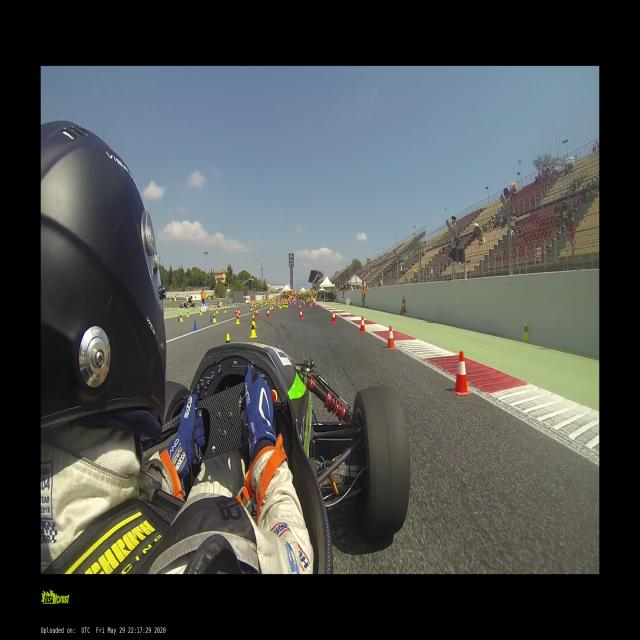blue_cone: (193, 320, 197, 330), (209, 314, 213, 323), (178, 314, 180, 322)
orange_cone: (452, 351, 472, 395), (385, 326, 396, 350), (359, 316, 366, 332), (331, 311, 336, 323), (298, 309, 304, 319), (266, 309, 270, 317), (255, 308, 259, 316), (250, 307, 253, 313), (309, 303, 312, 308), (271, 306, 274, 311), (238, 309, 240, 316), (235, 309, 237, 315), (299, 304, 301, 309), (315, 303, 317, 307)
yellow_cone: (249, 321, 257, 338), (521, 324, 529, 341), (250, 315, 257, 327), (235, 313, 240, 324), (212, 313, 217, 322), (179, 312, 183, 321), (226, 334, 230, 343), (187, 310, 190, 317), (269, 304, 272, 310), (215, 308, 218, 313), (279, 304, 282, 309), (224, 307, 226, 313), (200, 309, 202, 315), (286, 302, 288, 308)
